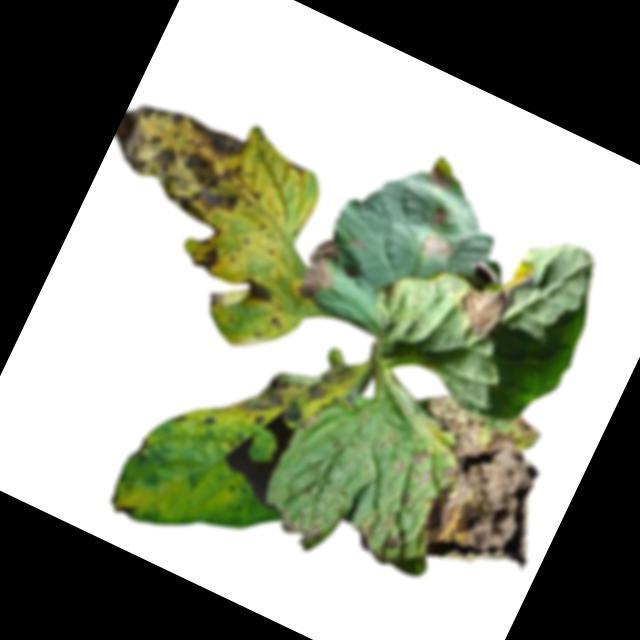Early_blight: (366, 378, 582, 596), (96, 90, 265, 236), (224, 322, 359, 454), (446, 244, 538, 352), (291, 232, 350, 309), (267, 501, 326, 555), (190, 241, 230, 280), (234, 273, 278, 308), (420, 231, 455, 262), (426, 164, 454, 194), (109, 497, 140, 522), (427, 203, 453, 230), (264, 312, 286, 334)
